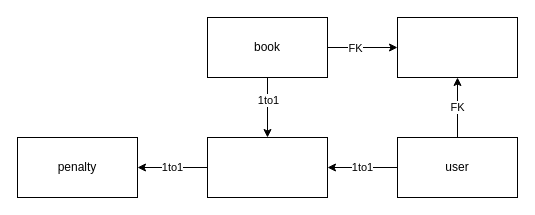
Some shapes in this 535 by 215 pixel diagram are drawn without their labels. Here are the shapes that lost their labels. From the top down, the centre of each, then its label:
point (457, 47): reservation
point (267, 167): loan
